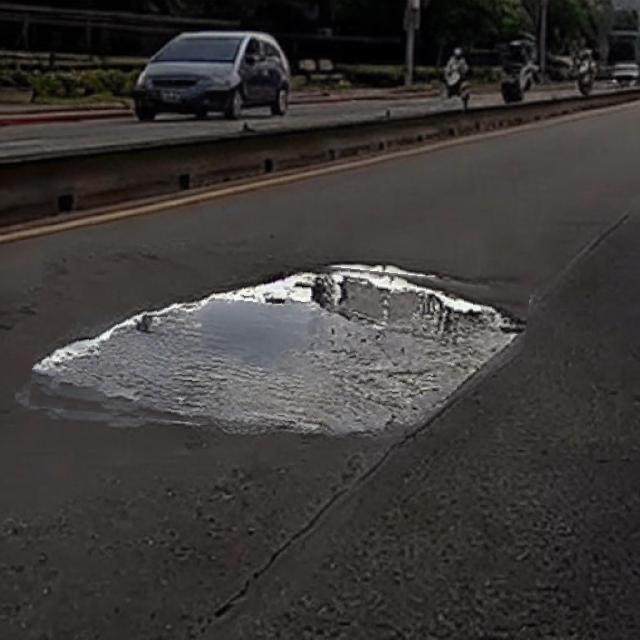puddle: (33, 251, 528, 445)
